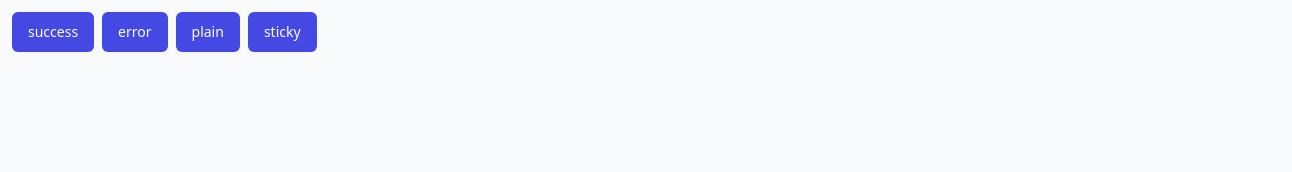
Test: Toast › error toasts use role=alert
Click the button "error": click(135, 32) [102, 12, 168, 52]
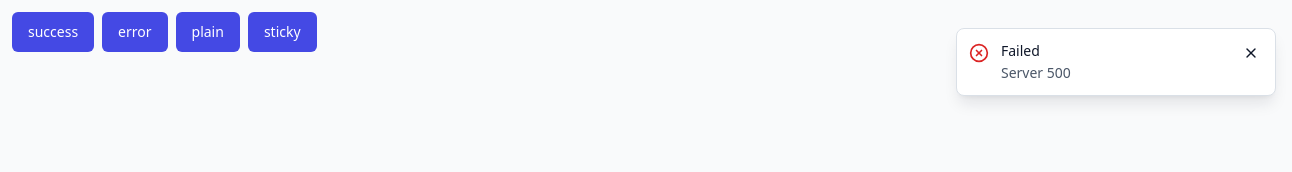
Expected: the message shows "Failed", [1001, 41, 1040, 60]
